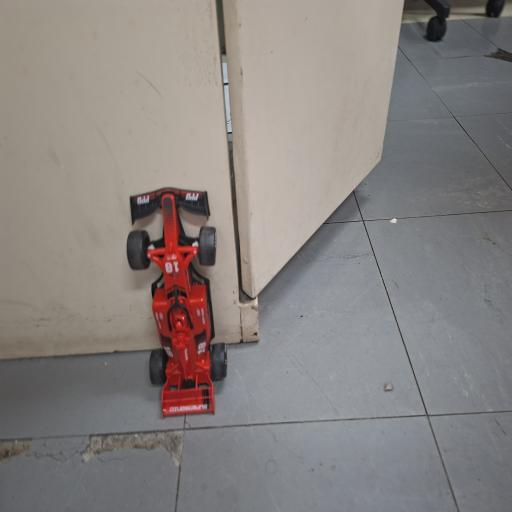carro: (127, 189, 226, 416)
